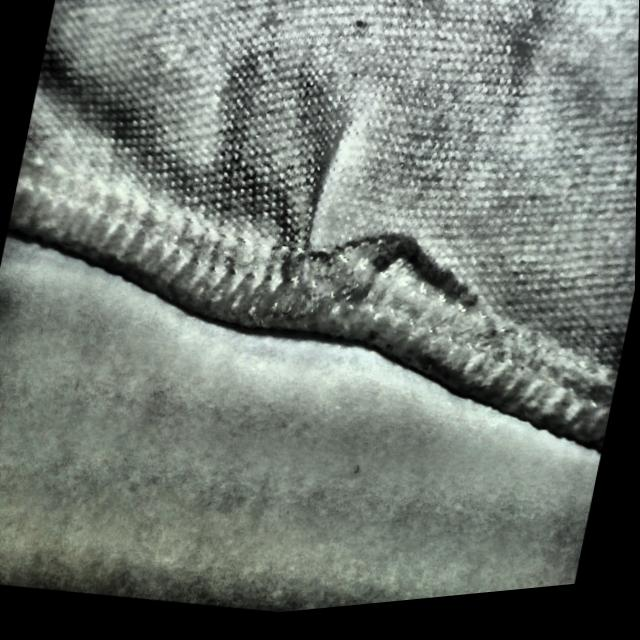seam: (243, 129, 501, 380)
